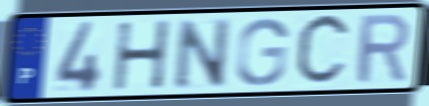4: (54, 19, 104, 95)
C: (292, 10, 354, 91)
G: (234, 16, 291, 88)
H: (111, 18, 173, 93)
N: (173, 15, 233, 92)
R: (355, 11, 412, 87)
